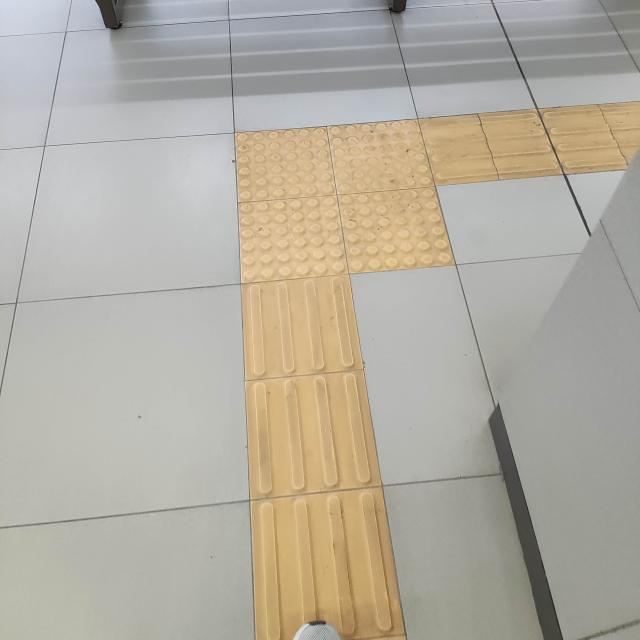kanan: (161, 82, 618, 308)
